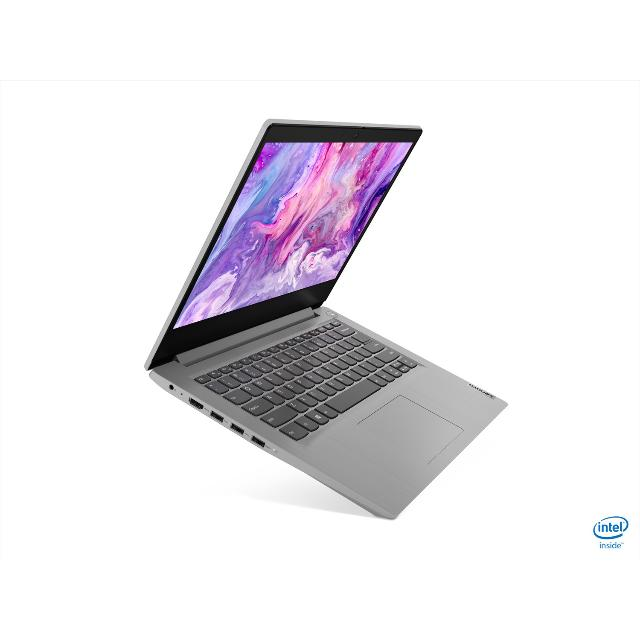Laptop: (138, 112, 520, 528)
